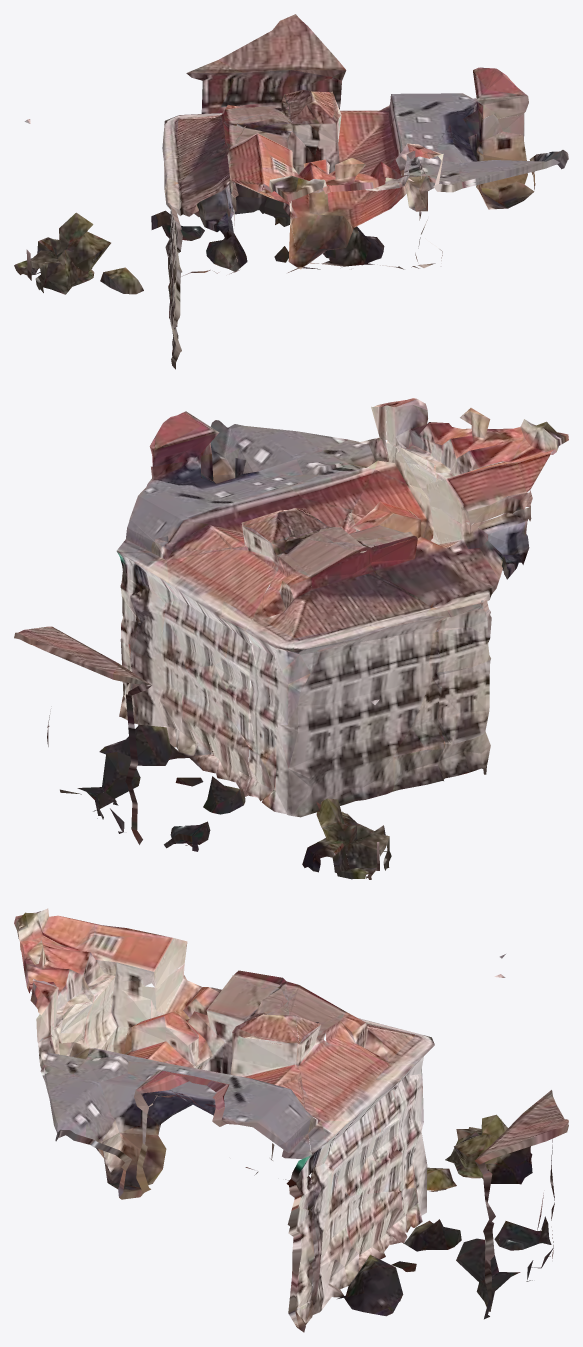
3 renders of one model, top to bottom at view 1: azimuth 30°, elevation 25°; view 2: azimuth 150°, elevation 25°; view 3: azimuth 270°, elevation 25°, orthographic. The views are drawn at different scales.
Visible parts, largest first — view 1: Mesh_0; view 2: Mesh_0; view 3: Mesh_0.
Part boxes in pixels (bbox=[...]): Mesh_0: bbox=[14, 14, 568, 369]; Mesh_0: bbox=[14, 398, 568, 879]; Mesh_0: bbox=[14, 908, 568, 1332].
Bounding box in the file's own units: 33.29 × 22.82 × 41.34.
Materials: 2 (2 with a texture image).
